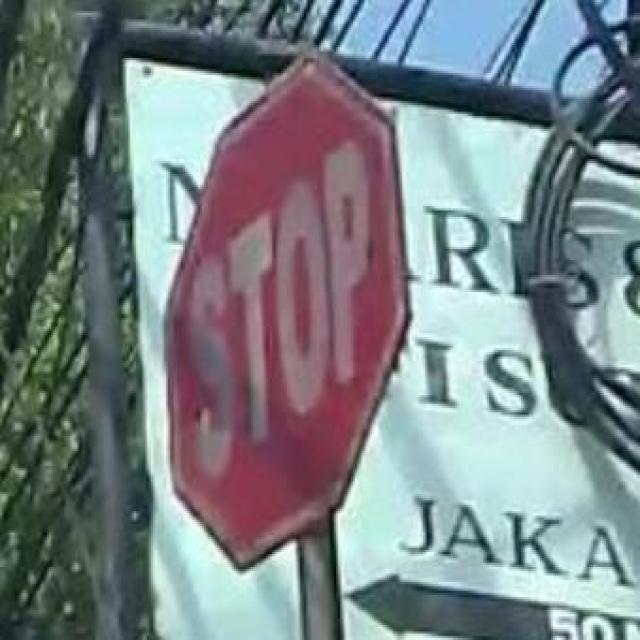traffic sign: (164, 82, 394, 548)
